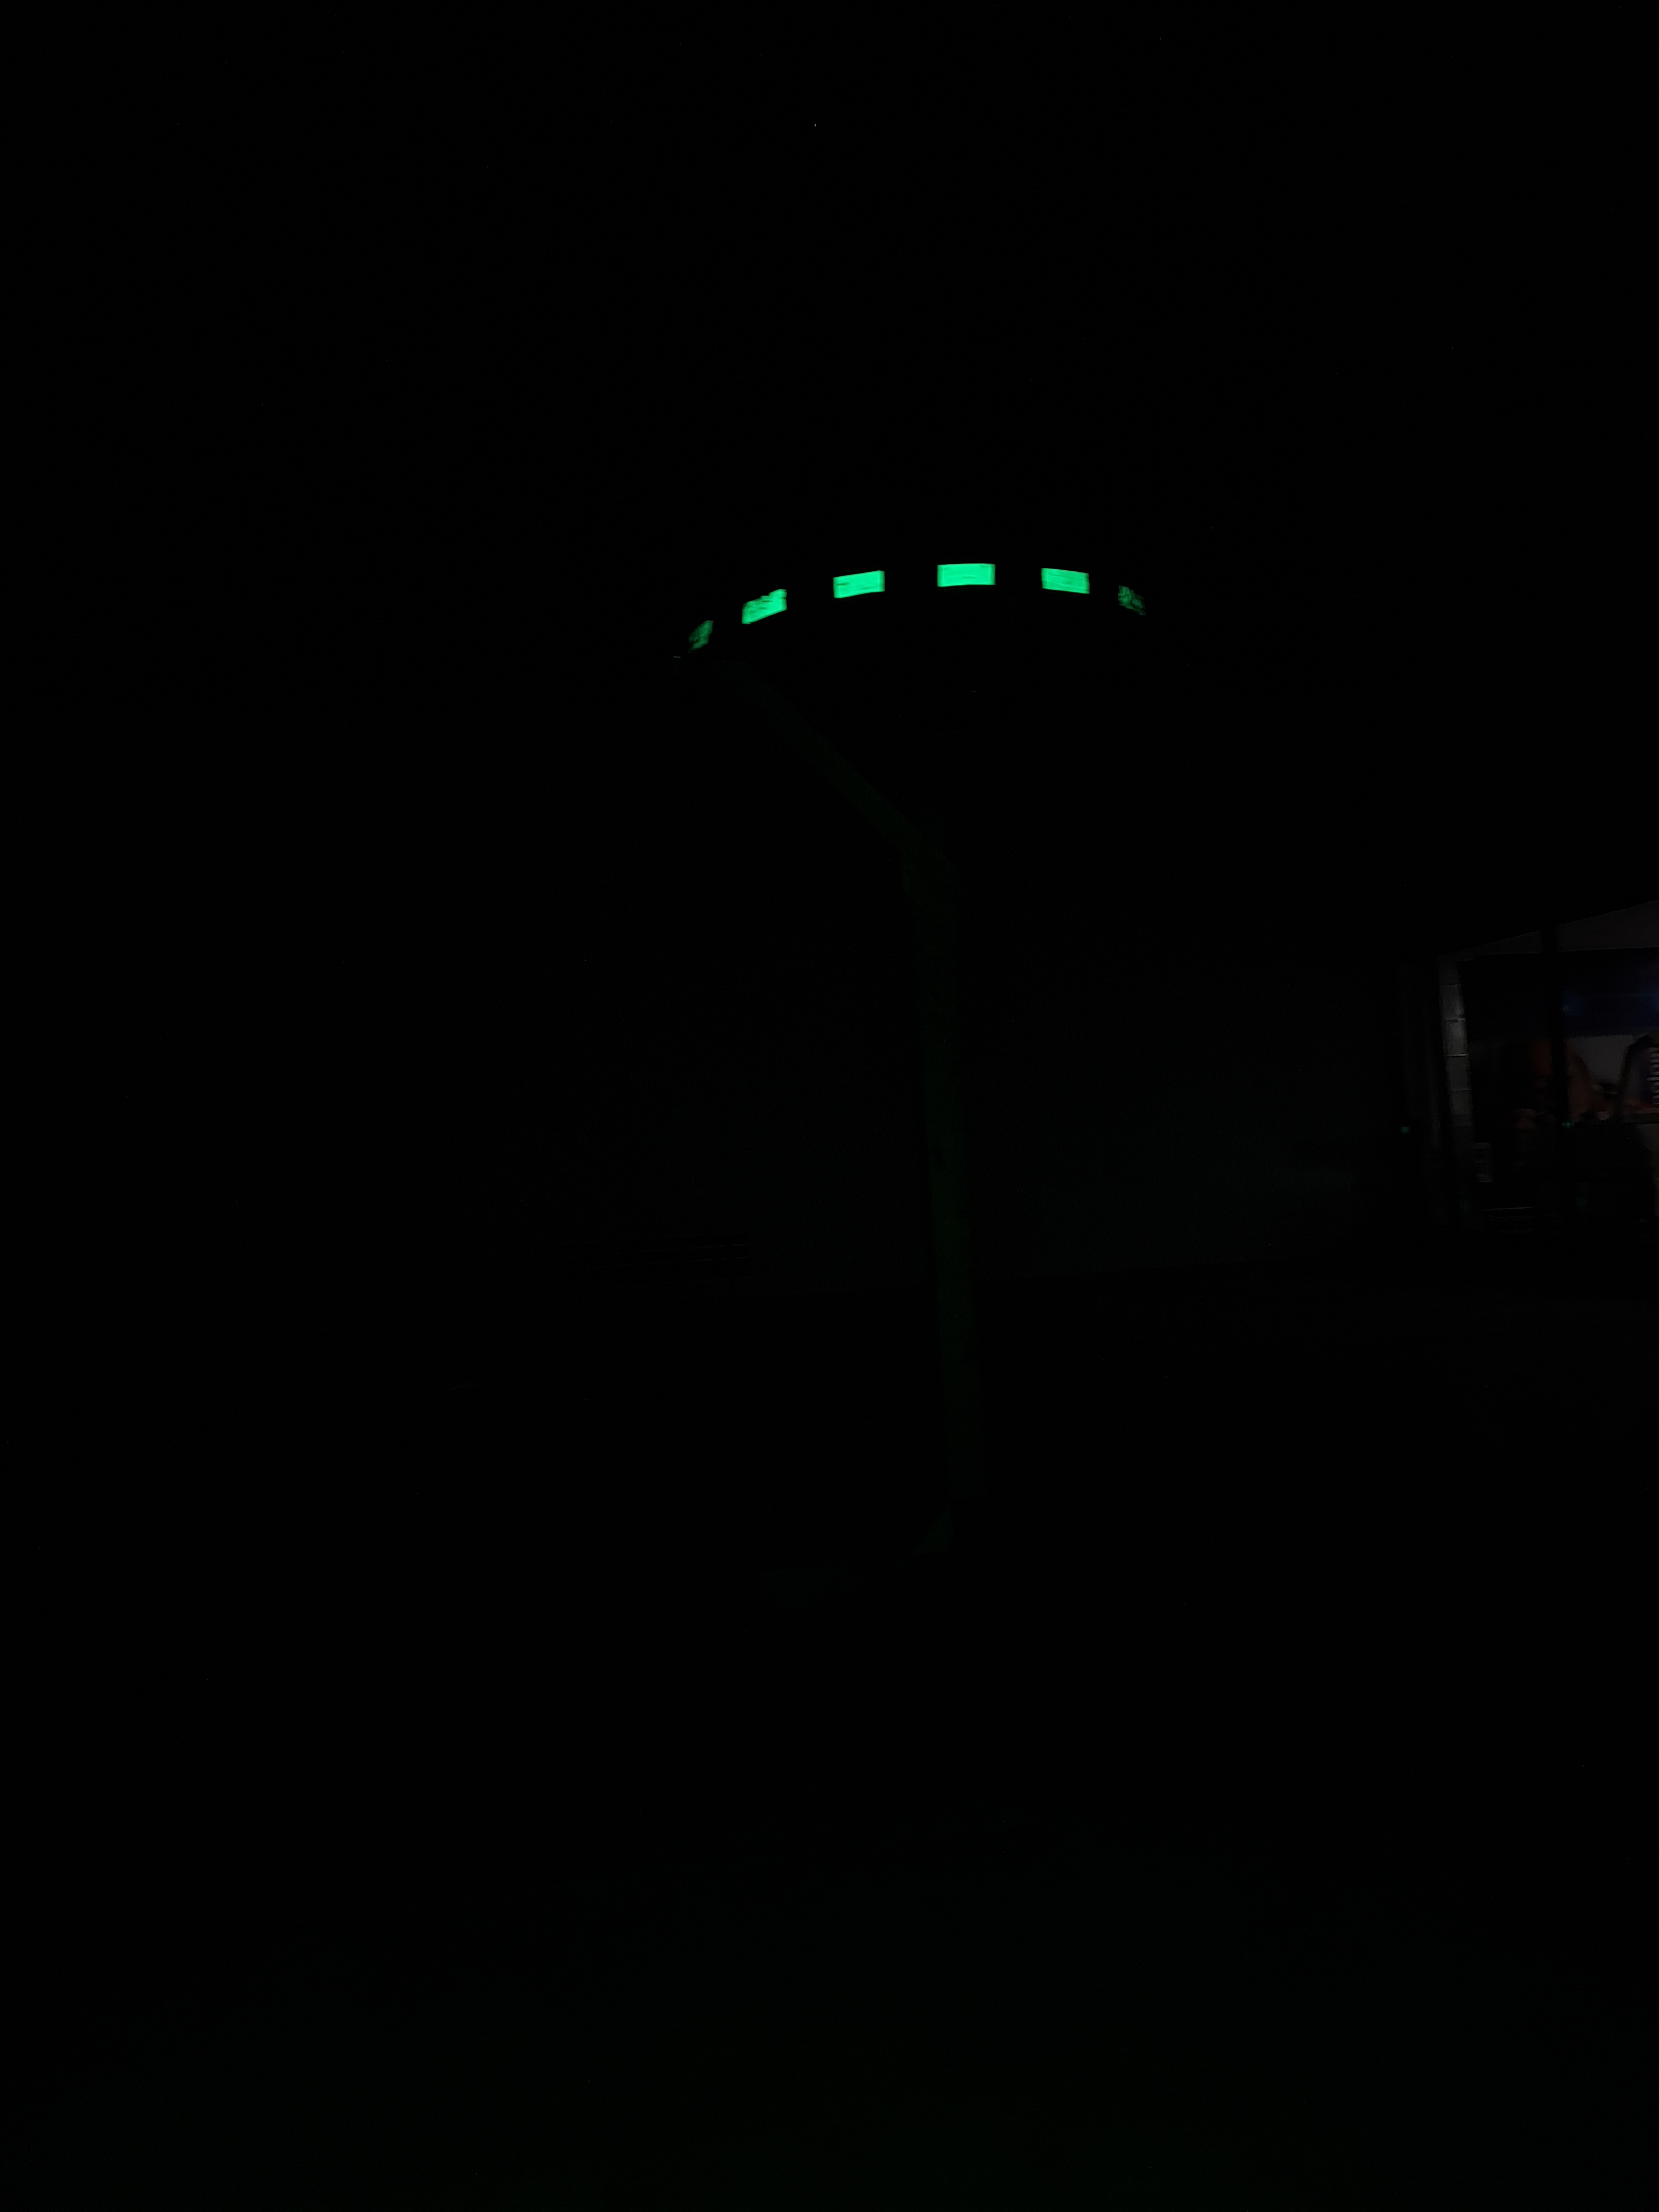hoop: (636, 559, 1180, 631)
